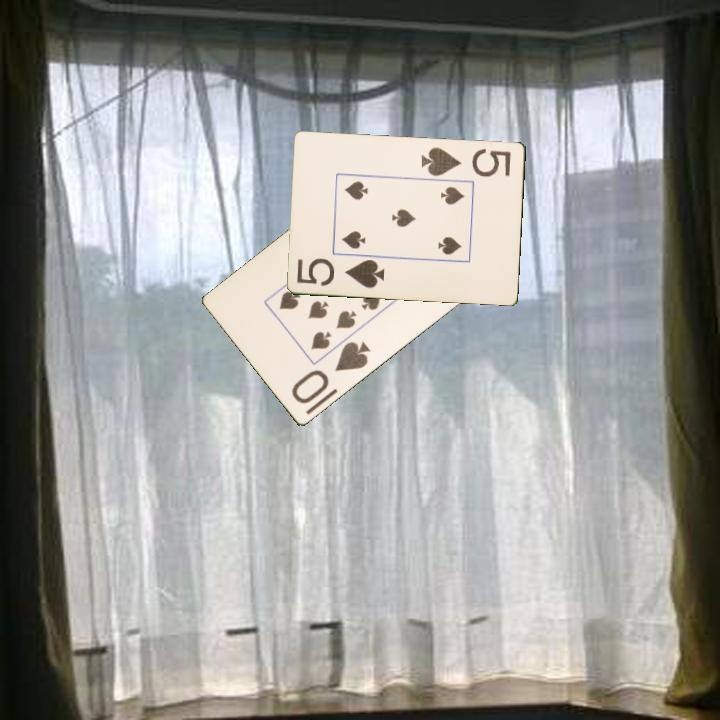10s: (288, 338, 373, 407)
5s: (418, 143, 514, 180), (294, 254, 388, 291)
